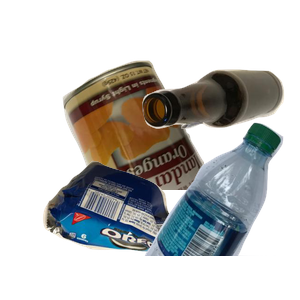glass: (140, 67, 300, 188)
metal: (60, 58, 300, 238)
plastic: (142, 120, 300, 300)
trash: (40, 158, 245, 300)
